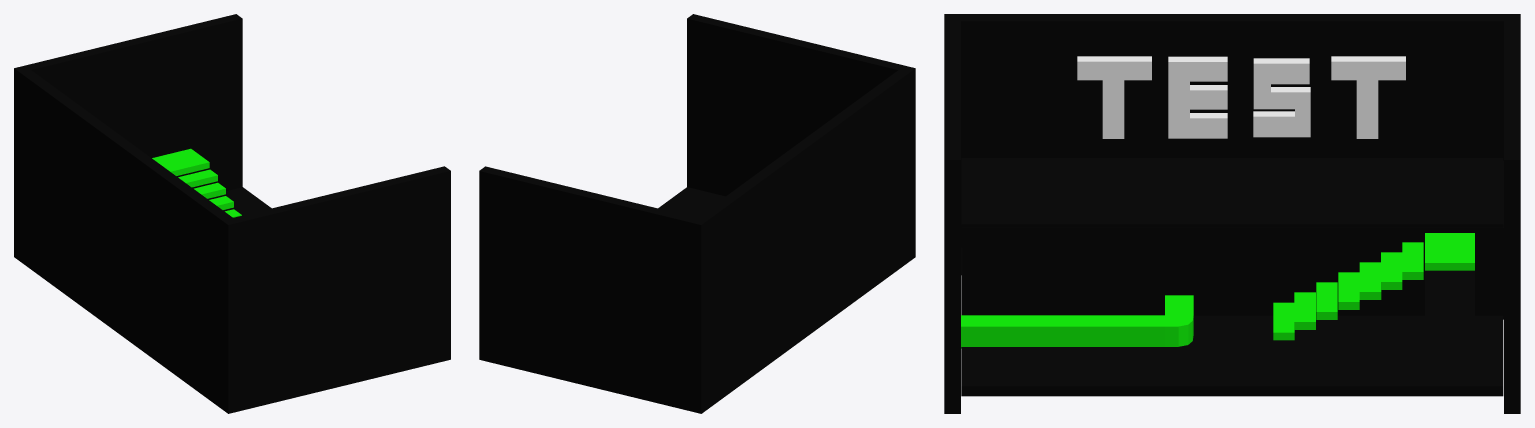
Rendered from test_room.fbx.
3 views of the same model, side by side, from view 1: azimuth 30°, elevation 25°; view 2: azimuth 150°, elevation 25°; view 3: azimuth 270°, elevation 25° (orthographic). The views are drawn at different scales.
Parts seen in each view (by area): view 1: wall.002; view 2: wall.002; view 3: wall.002.
Part boxes in pixels (x1,y1,x2,y2): wall.002: [14, 14, 450, 413]; wall.002: [479, 14, 915, 413]; wall.002: [944, 14, 1520, 413].
Size of the model in its own units: 1386 by 1124 by 2311.
